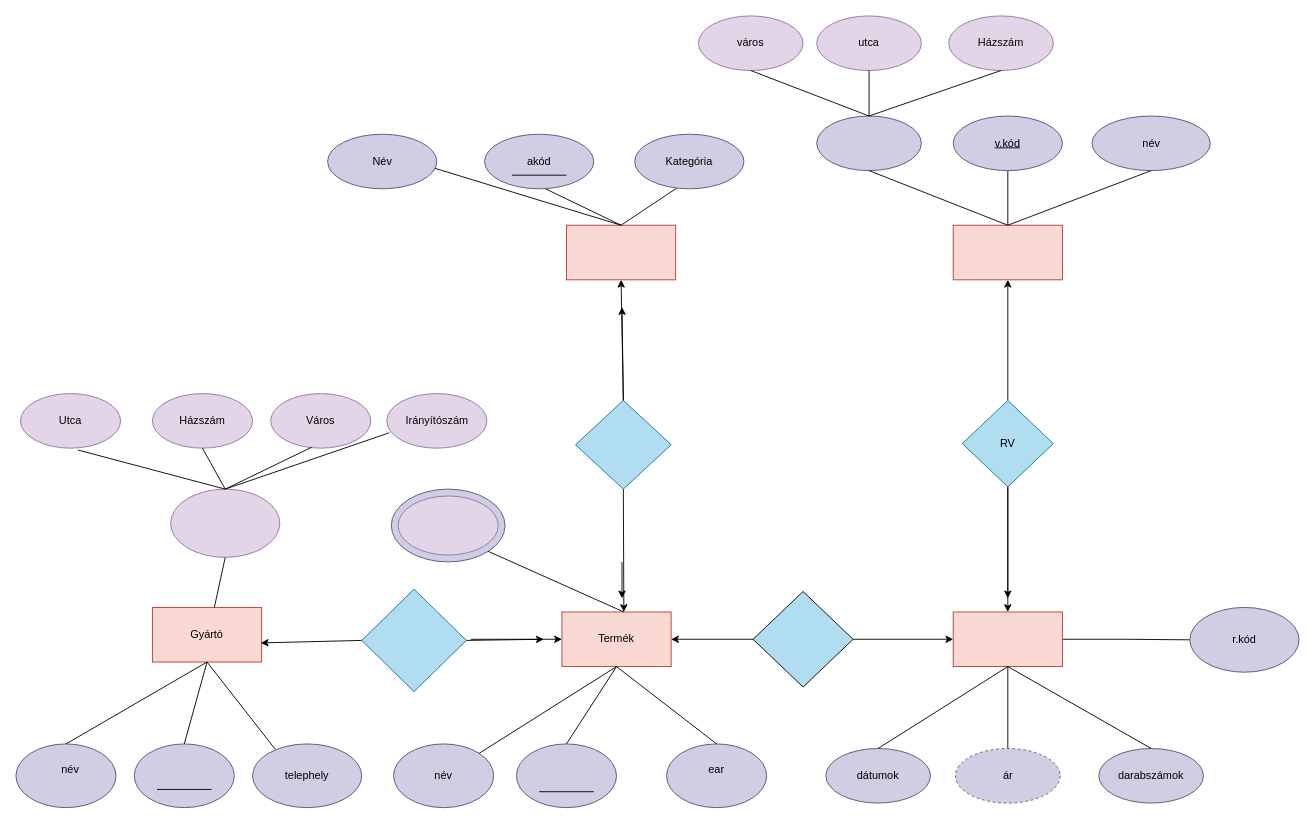
Image size: 1315x824. Some labels were removed from this diagram. Each missing label, with the centre of its shape:
"adószám" goes at (x=183, y=775).
"Alkatrész" goes at (x=621, y=252).
"egység_db" goes at (x=447, y=525).
"Gyártás" goes at (x=413, y=640).
"lakcím" goes at (x=868, y=143).
"Postai cím" goes at (x=225, y=522).
"Rendelés" goes at (x=1007, y=639).
"tkód" goes at (x=566, y=775).
"TR" goes at (x=802, y=639).
"vevő" goes at (x=1007, y=252).
"Összerakás" goes at (x=623, y=444).
